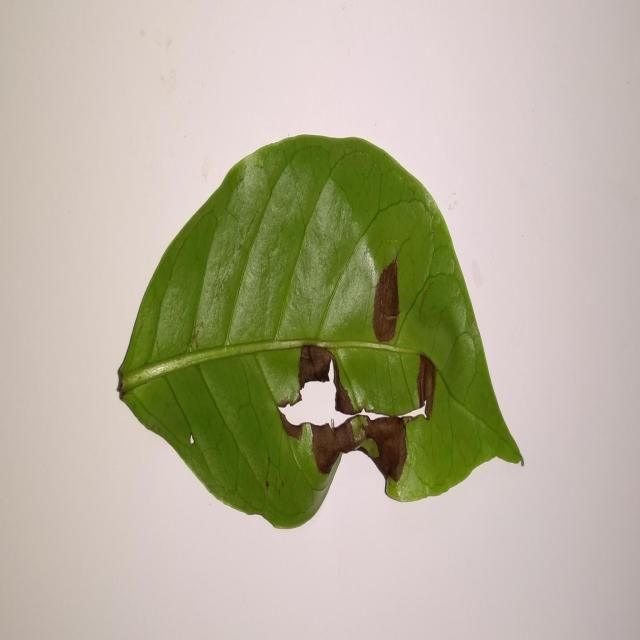phoma: (278, 345, 436, 483), (373, 256, 399, 342), (417, 354, 436, 418)
